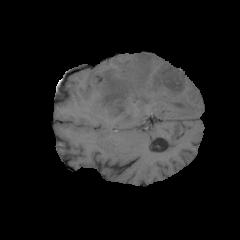glioma: (97, 53, 197, 126)
